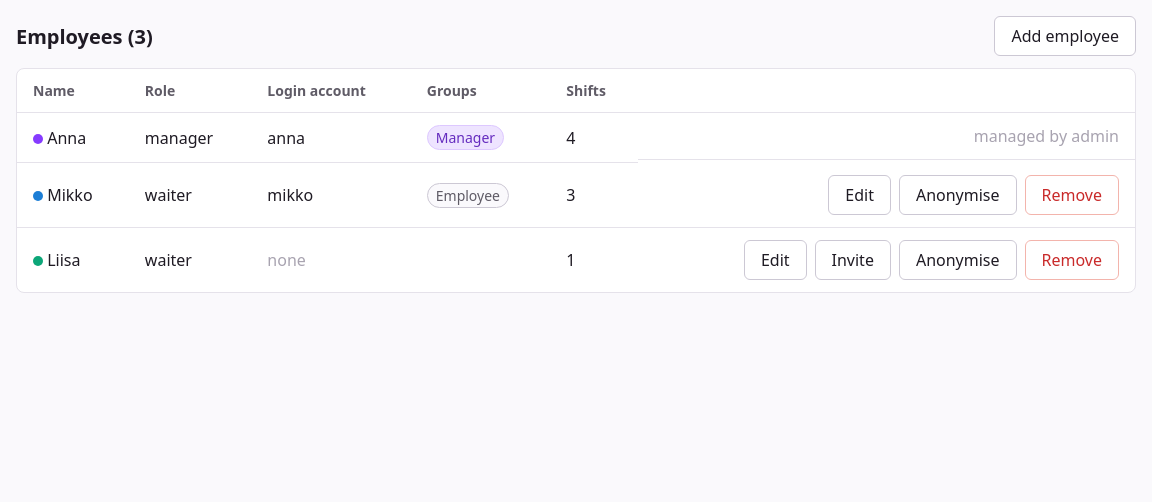
Test case: renames an employee and sets a new password
Click the 1st button "Edit" at (860, 194), box x1=828 y1=174 x2=891 y2=214
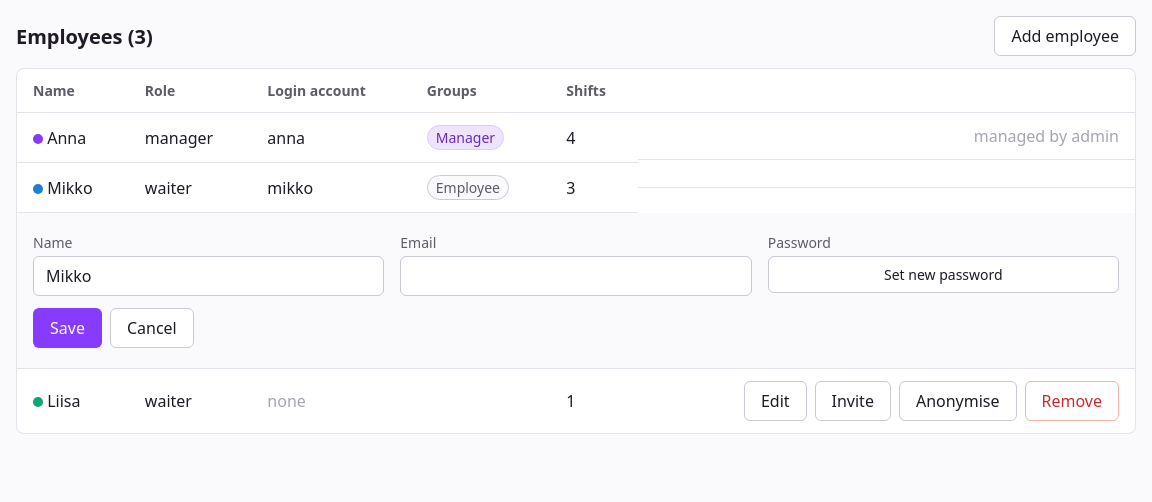
Replace the text in the field labelled "Name" with "Mikael" at (209, 276), box x1=33 y1=256 x2=384 y2=296
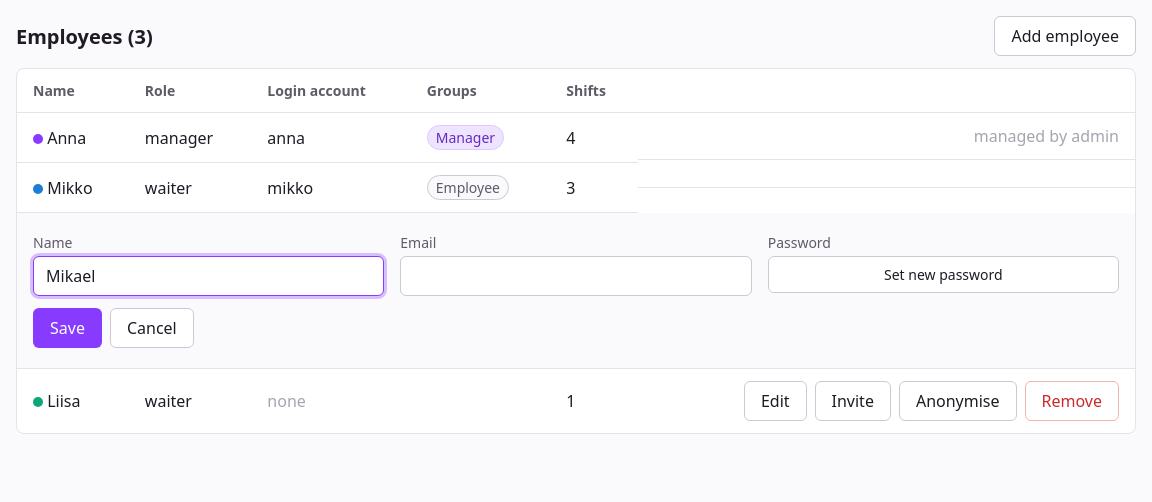
Click the button "Set new password" at (943, 274), box x1=768 y1=256 x2=1119 y2=293
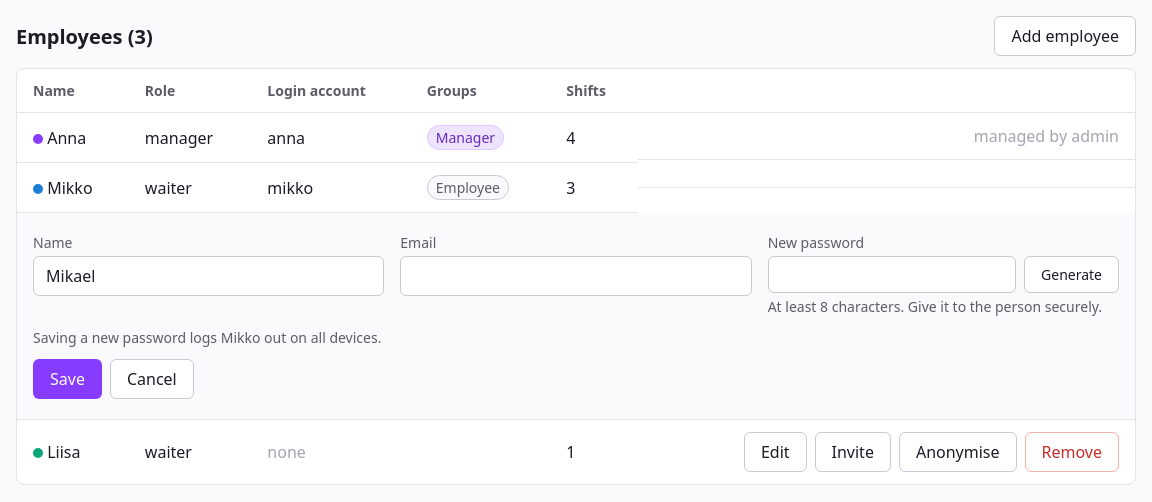
Type "recovered-password" into the field labelled "New password" at (892, 274), box x1=768 y1=256 x2=1016 y2=293
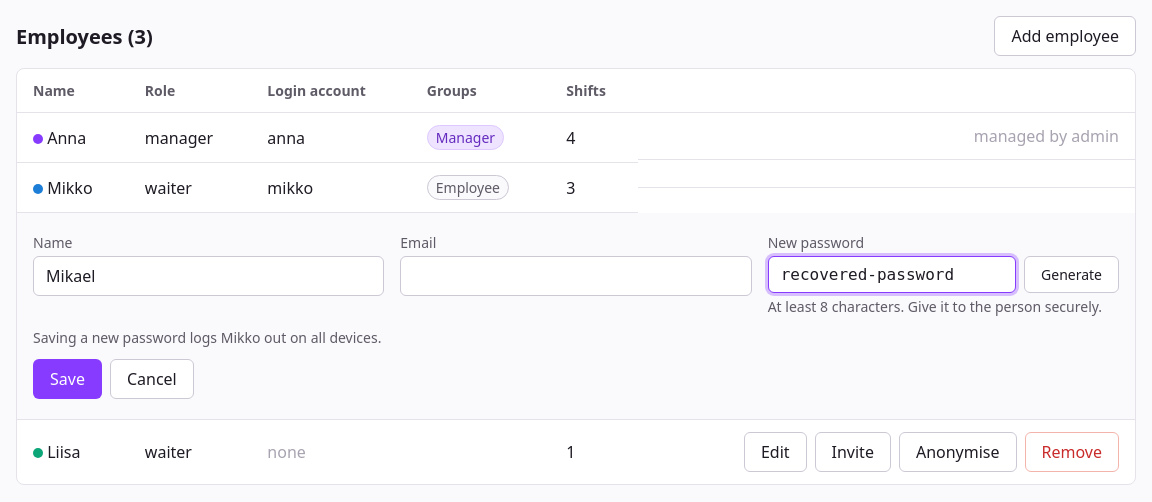
Click the button "Save" at (67, 379), box x1=33 y1=359 x2=102 y2=399
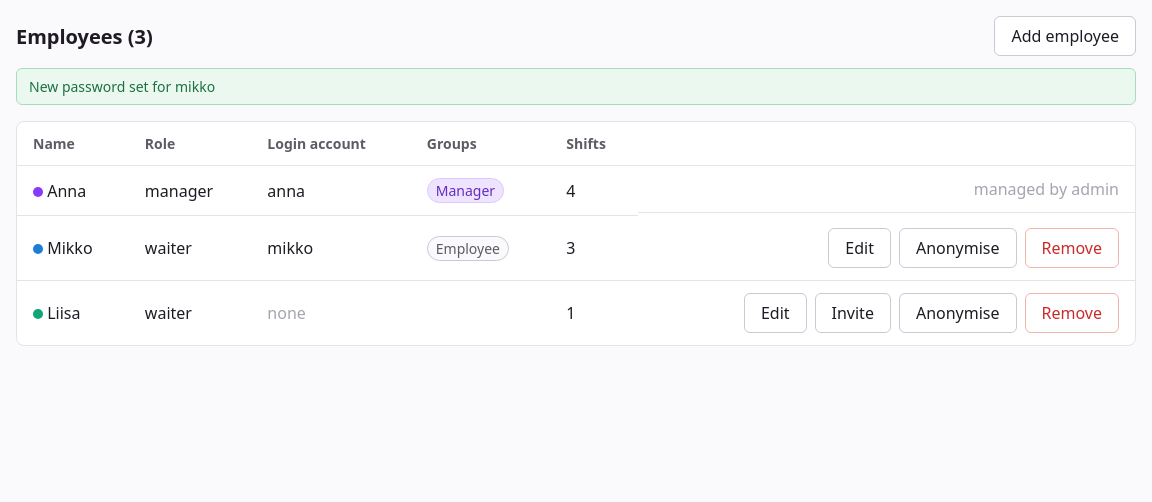
Result: the message reads "New password set for mikko" at x1=29 y1=77 x2=215 y2=96
